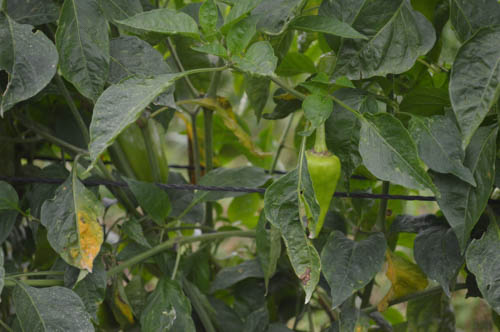ChiliPepper: (121, 123, 176, 220), (296, 153, 342, 243)
